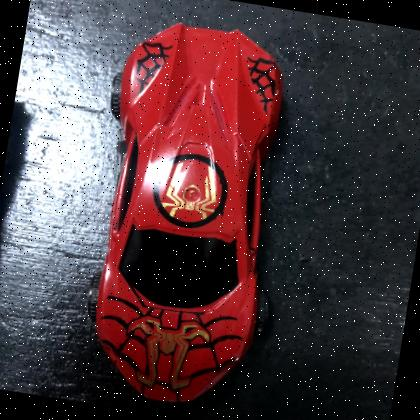Car: (95, 23, 284, 405)
